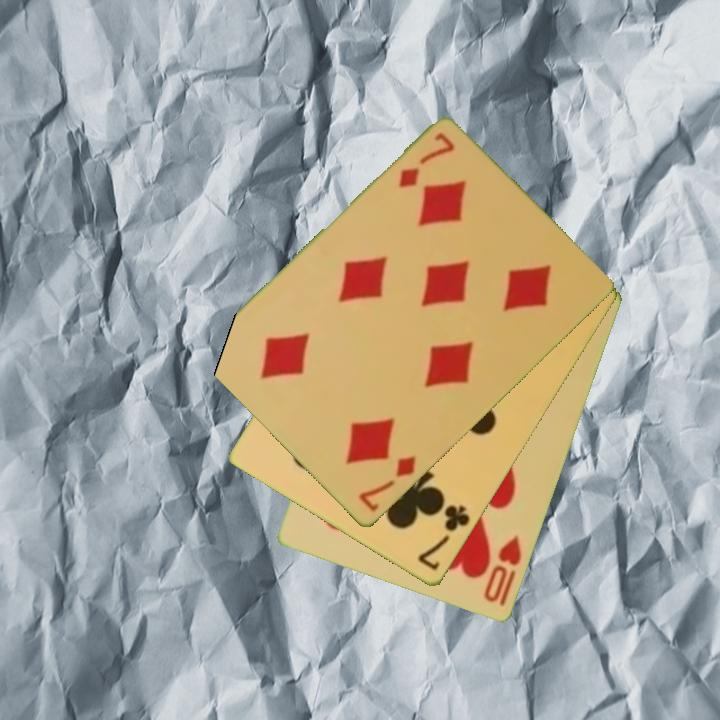10h: (480, 531, 525, 610)
7c: (414, 501, 474, 574)
7d: (355, 453, 419, 516), (394, 129, 458, 192)
